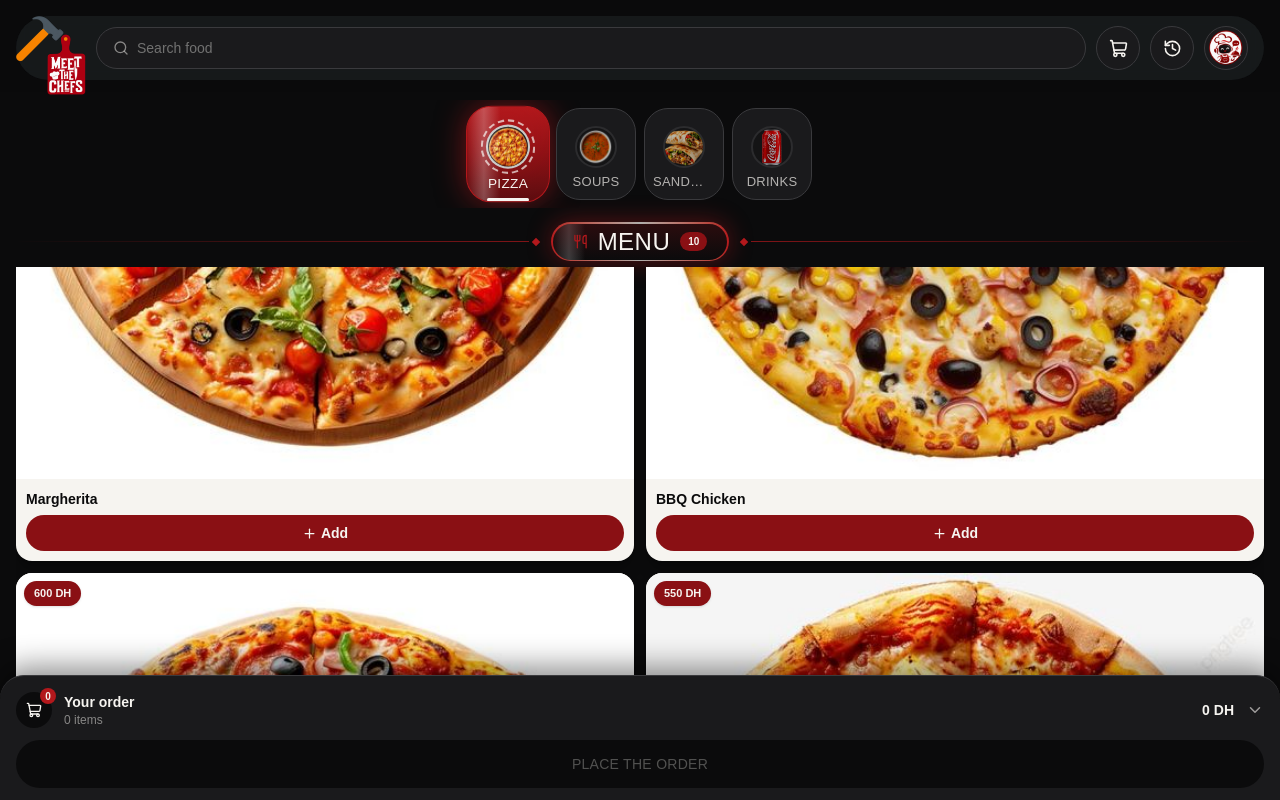
Scenario: Table routing › opens the ToHomeOrder link and labels the order "To Home"
(page scrolled)
Click the button with aria-label "add margherita".
click(325, 533)  # box top-left (26, 515), bottom-right (624, 551)
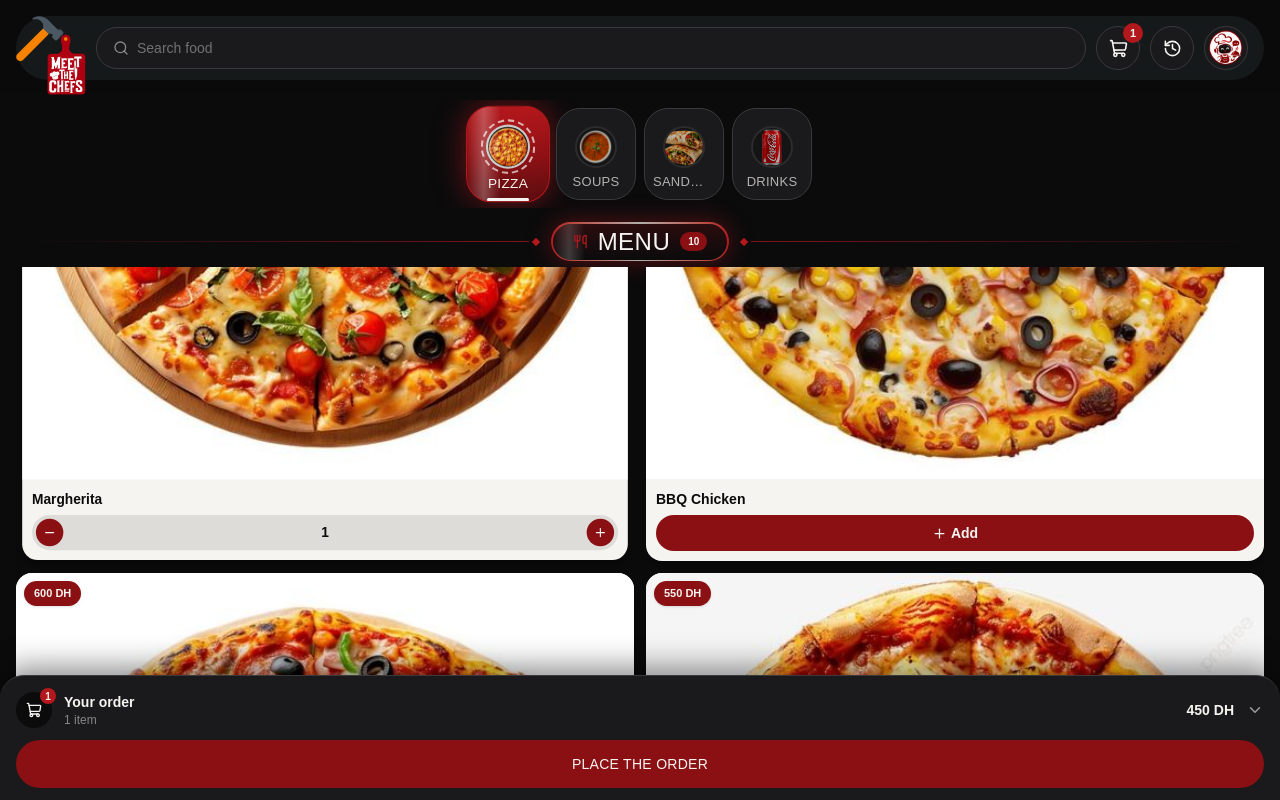
Click the button "PLACE THE ORDER".
click(640, 764)  # box top-left (16, 740), bottom-right (1264, 788)
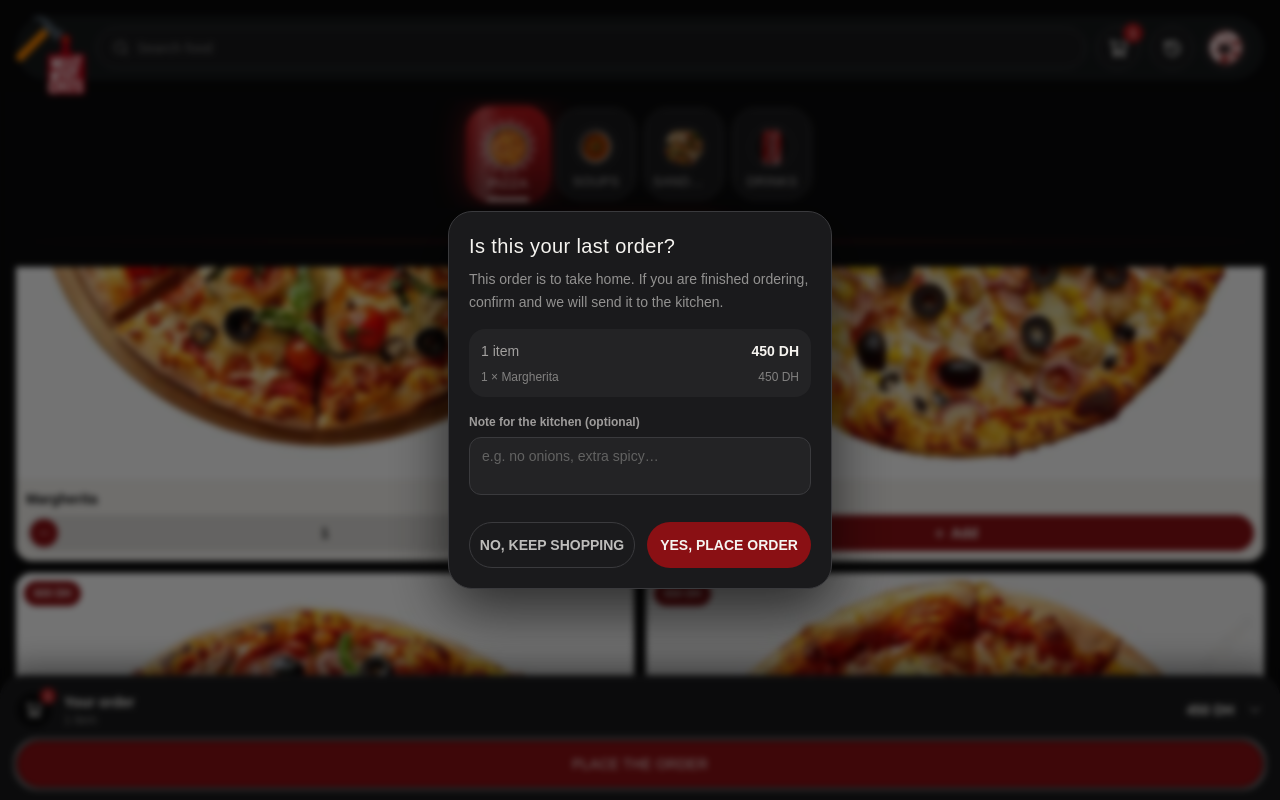
Click the button "YES, PLACE ORDER".
click(729, 545)  # box top-left (647, 522), bottom-right (811, 568)
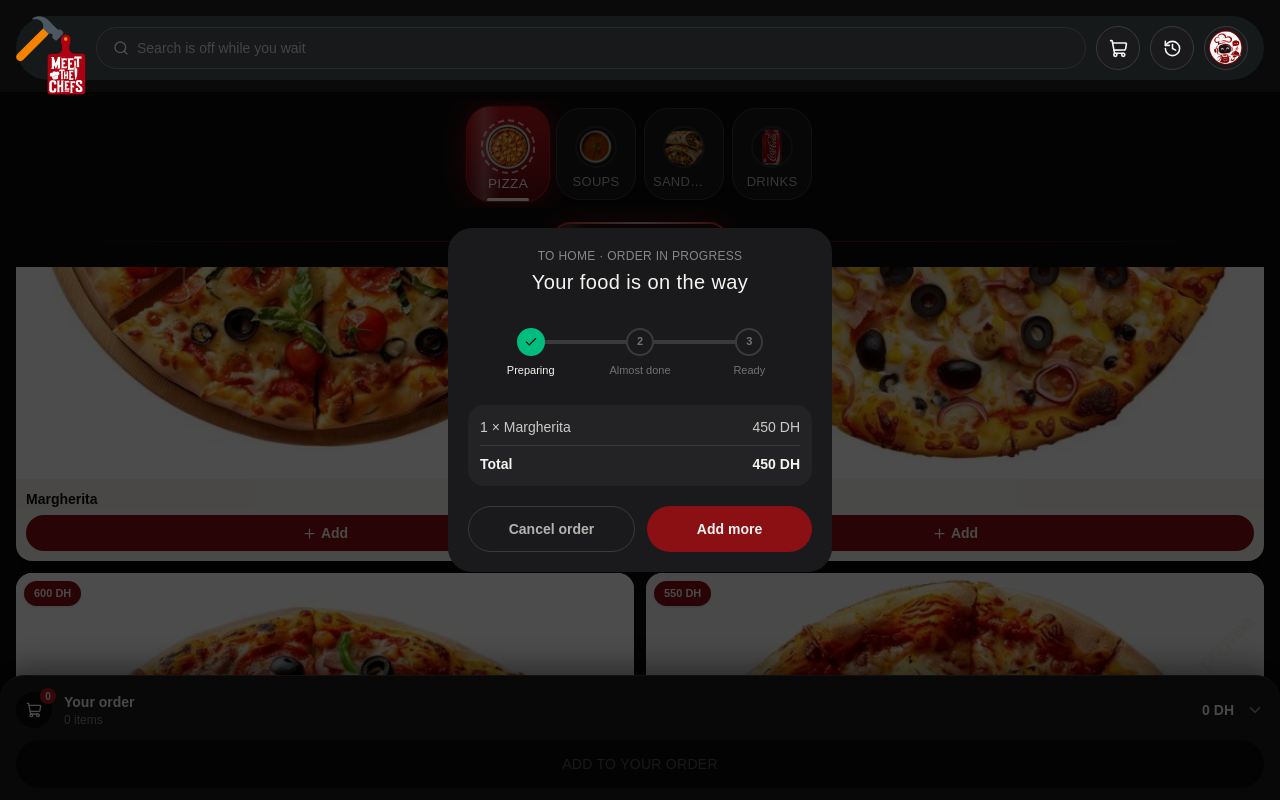
Check: the text "To Home · Order in progress" is shown, box top-left (538, 249), bottom-right (742, 263)
